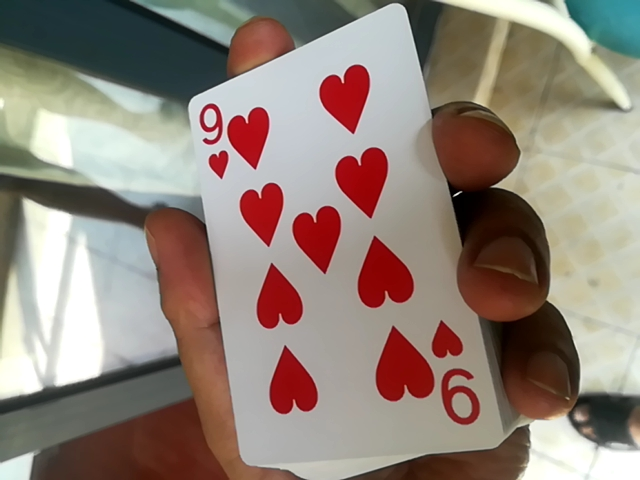hx 9: (193, 20, 484, 462)
